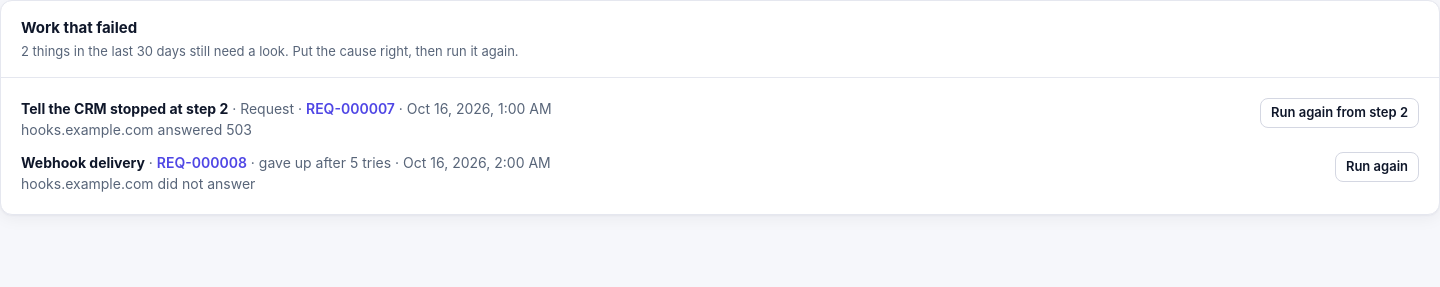
Test: work that failed › says why when running again is refused, and keeps the item
Click the button "Run again from step 2" at (1340, 113), box [1260, 98, 1419, 128]
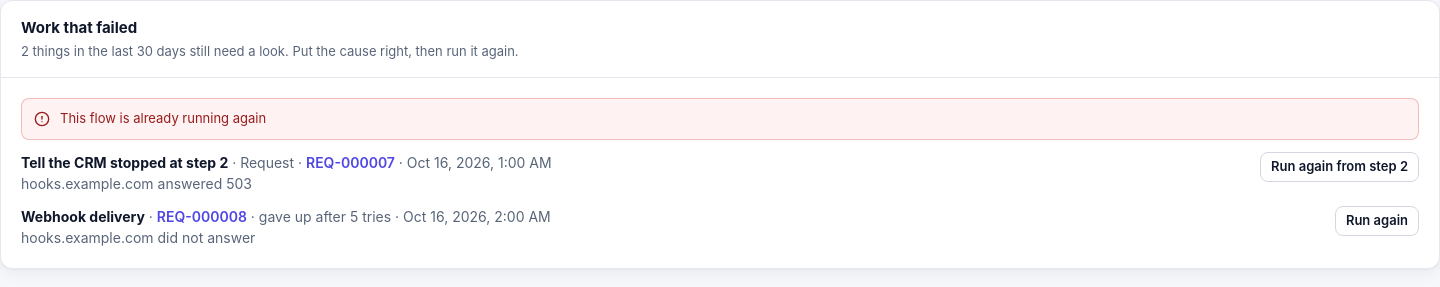
Expected: the text "Tell the CRM stopped at step 2" is shown, [21, 154, 228, 170]
Result: the text "This flow is already running again" is shown at [60, 109, 266, 128]
